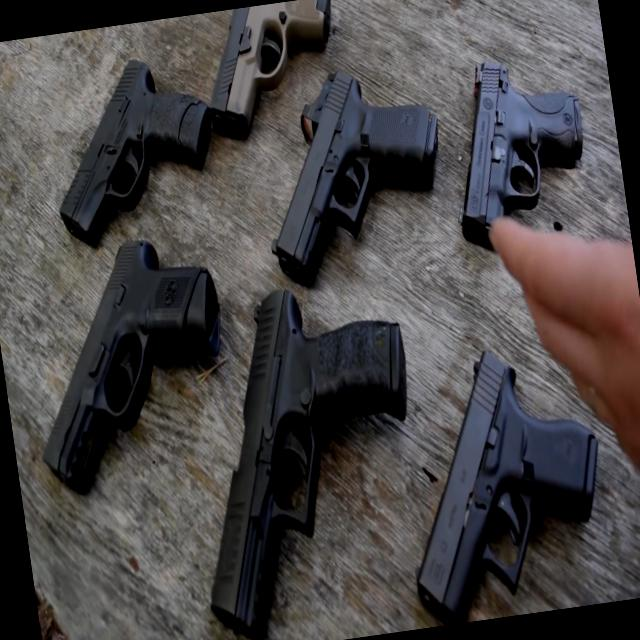handgun: (188, 242, 438, 610), (384, 273, 639, 628), (235, 41, 470, 303), (26, 230, 250, 490), (34, 46, 246, 272), (417, 24, 598, 265), (191, 0, 342, 122)
